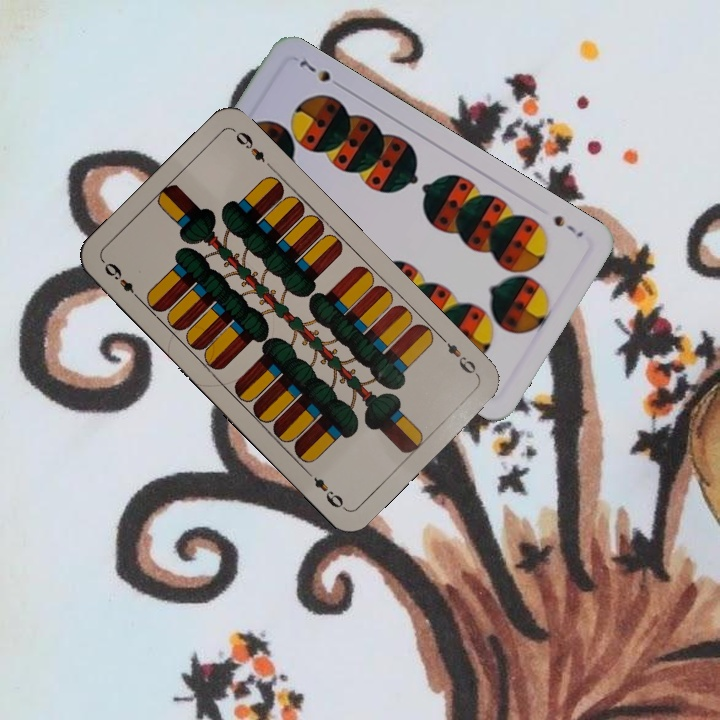E9: (99, 257, 144, 304), (436, 332, 481, 379)
S7: (549, 211, 586, 240)
